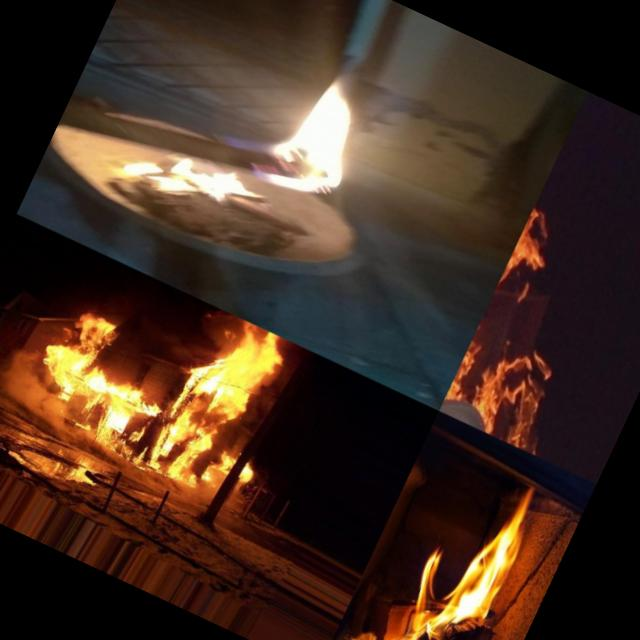fire: (438, 175, 640, 455), (337, 442, 556, 640), (228, 46, 394, 217), (136, 304, 280, 492), (33, 297, 184, 423), (121, 133, 262, 234), (65, 392, 151, 464), (216, 448, 260, 486)
smoke: (0, 351, 84, 439), (132, 464, 206, 517), (200, 472, 254, 528)
